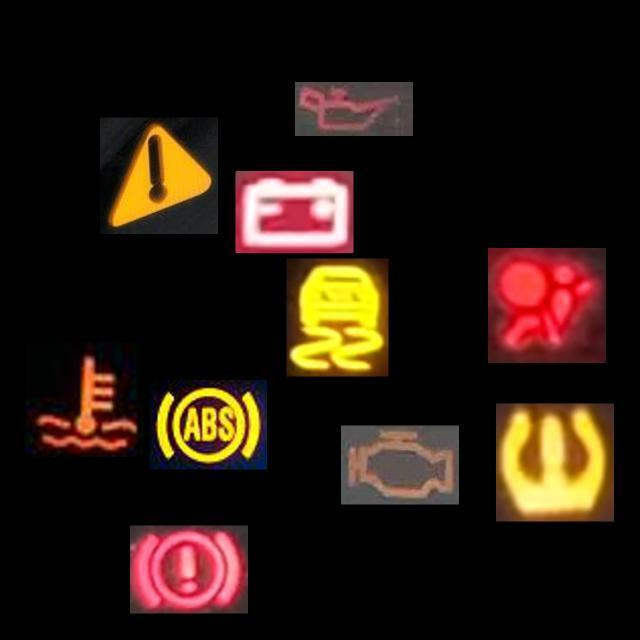Central Warning lamp: (100, 118, 218, 234)
Engine cooling system: (25, 342, 144, 458)
